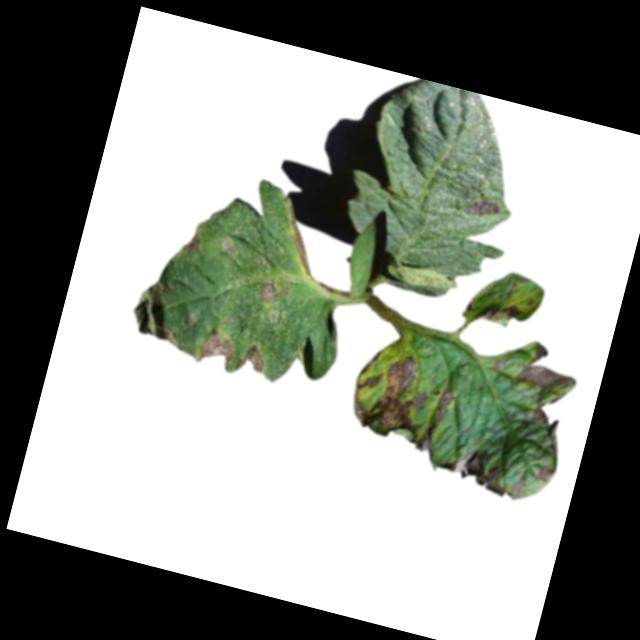Early_blight: (344, 339, 438, 443), (435, 437, 512, 496), (270, 201, 324, 275), (512, 341, 581, 396), (523, 403, 575, 465), (415, 381, 457, 456), (196, 325, 237, 370), (476, 295, 523, 331), (233, 340, 270, 379), (467, 192, 503, 222), (179, 228, 206, 256), (257, 275, 281, 303), (532, 462, 556, 486)
